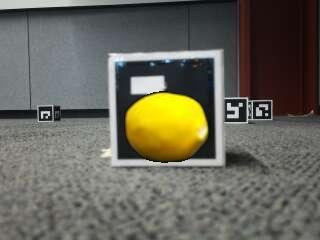lemon: (126, 93, 210, 163)
